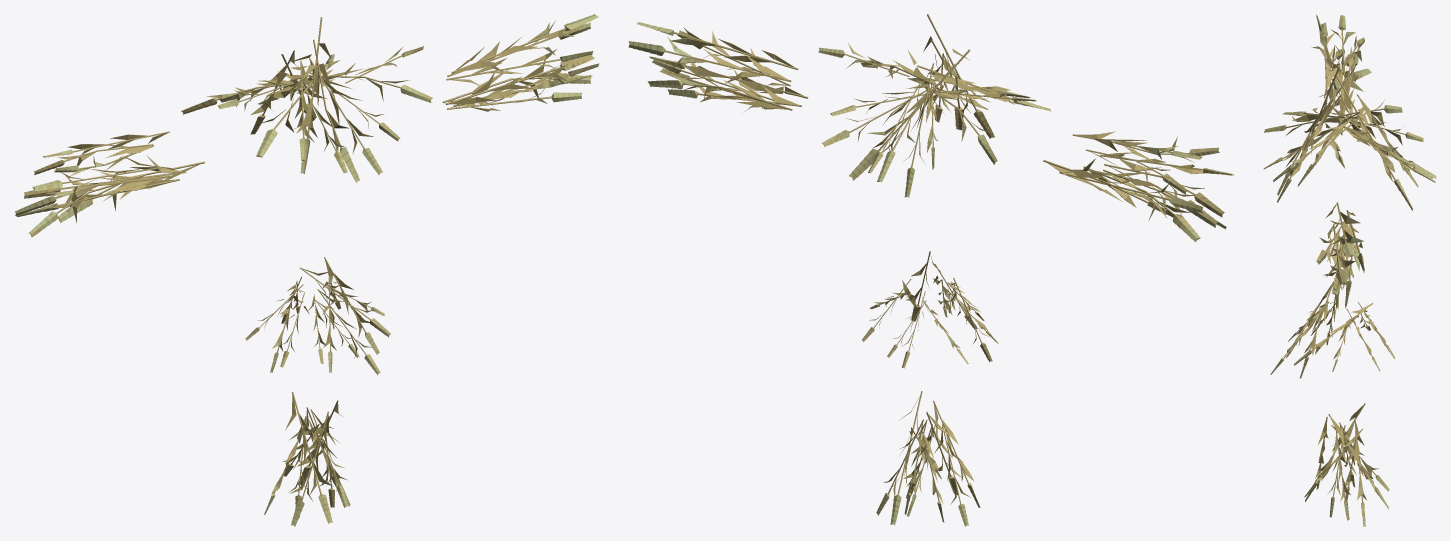
The model's file is Wheat.obj.
The picture shows the model from 3 angles, left to right: view 1: azimuth 30°, elevation 25°; view 2: azimuth 150°, elevation 25°; view 3: azimuth 270°, elevation 25°; orthographic projection. The views are drawn at different scales.
Visible parts, largest first — view 1: node-0.906; view 2: node-0.906; view 3: node-0.906.
Part boxes in pixels (x1=…): node-0.906: x1=14, y1=14, x2=599, y2=526; node-0.906: x1=628, y1=14, x2=1234, y2=526; node-0.906: x1=1263, y1=14, x2=1436, y2=526.
Size of the model in its own units: 80.35 by 65.71 by 23.19.
